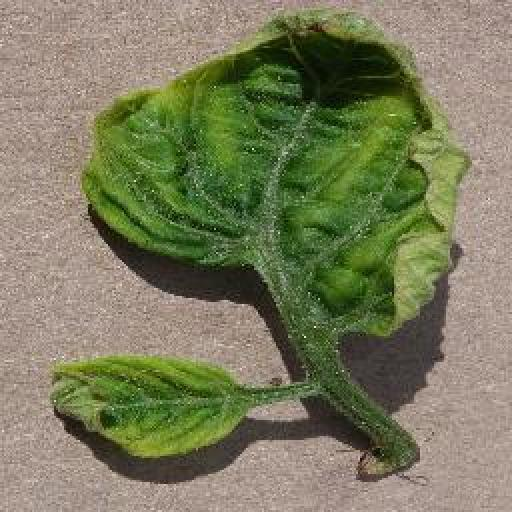Yellow Leaf Curl Virus: (86, 7, 471, 340), (47, 349, 247, 459)
